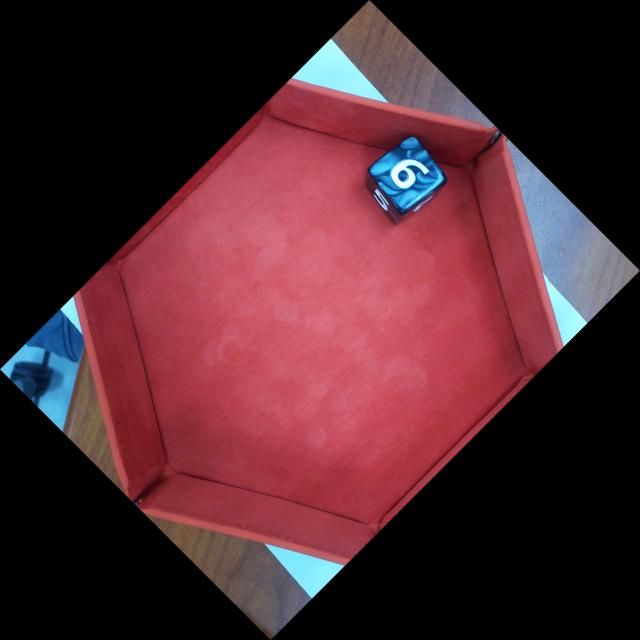dice: (364, 133, 451, 217)
